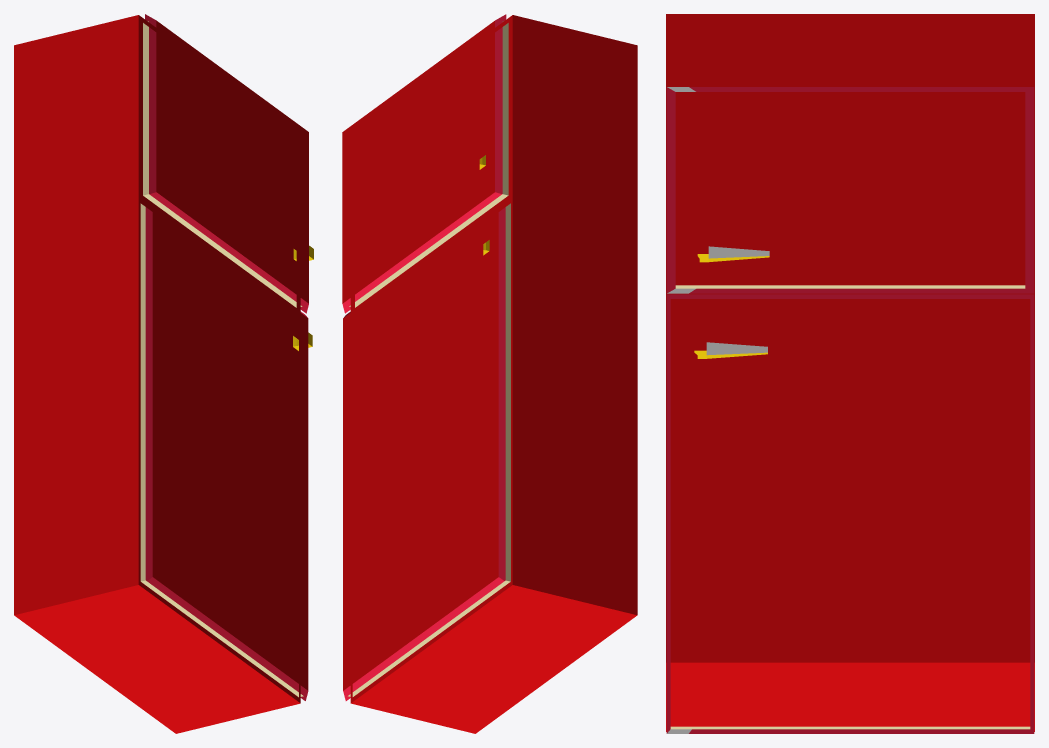
The model's file is fridge.glb.
3 views of the same model, side by side, from view 1: azimuth 30°, elevation 25°; view 2: azimuth 150°, elevation 25°; view 3: azimuth 270°, elevation 25° (orthographic). The views are drawn at different scales.
Visible parts, largest first — view 1: Cube; view 2: Cube; view 3: Cube.
Part boxes in pixels (bbox=[...]): Cube: bbox=[14, 14, 313, 733]; Cube: bbox=[342, 14, 637, 733]; Cube: bbox=[666, 14, 1034, 733].
Bounding box in the file's own units: 1.09 × 3.88 × 2.
